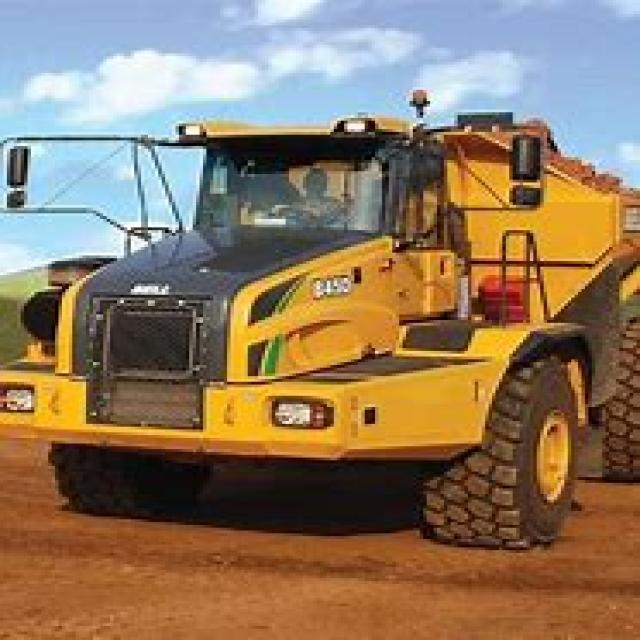dump_truck: (4, 79, 636, 550)
